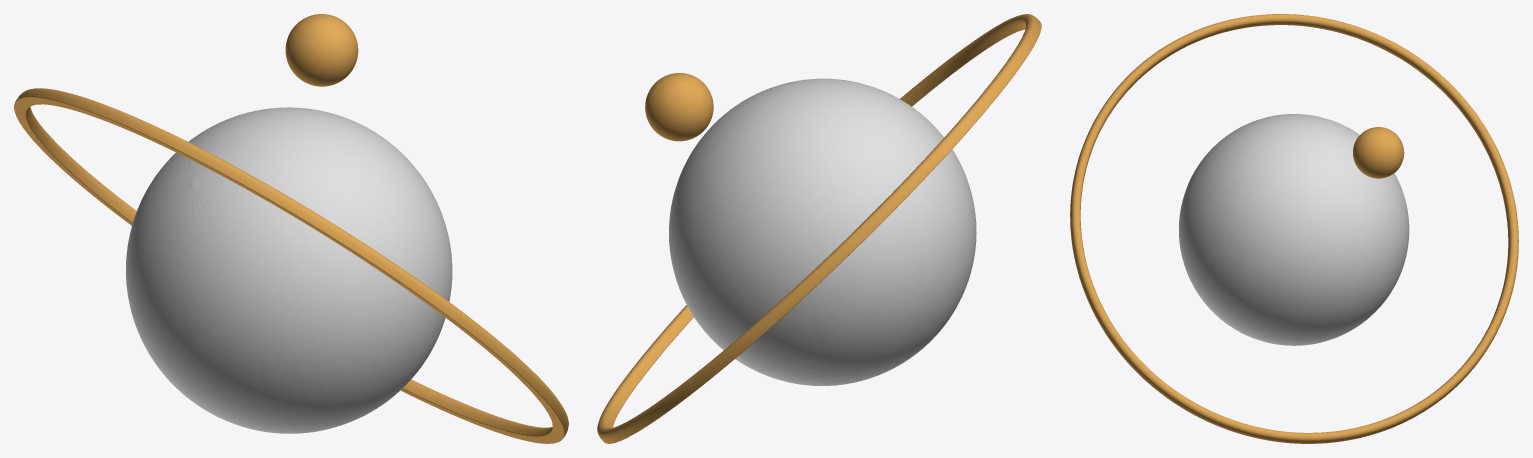
The model's file is Planet-webp.glb.
3 renders of one model, left to right at view 1: azimuth 30°, elevation 25°; view 2: azimuth 150°, elevation 25°; view 3: azimuth 270°, elevation 25°, orthographic. The views are drawn at different scales.
Parts seen in each view (by area): view 1: Sphere, Ring, Sphere2; view 2: Sphere, Ring, Sphere2; view 3: Sphere, Ring, Sphere2.
Boxes of the visible parts, left/top/right/bottom form: Sphere: left=126, top=107, right=452, bottom=433; Ring: left=14, top=88, right=568, bottom=443; Sphere2: left=285, top=14, right=358, bottom=86; Sphere: left=669, top=78, right=976, bottom=385; Ring: left=597, top=14, right=1041, bottom=443; Sphere2: left=645, top=73, right=713, bottom=141; Sphere: left=1179, top=114, right=1409, bottom=345; Ring: left=1070, top=14, right=1518, bottom=443; Sphere2: left=1353, top=127, right=1404, bottom=178.
Bounding box in the file's own units: 2.84 × 2.84 × 3.85.
Materials: 2 (1 with a texture image).
